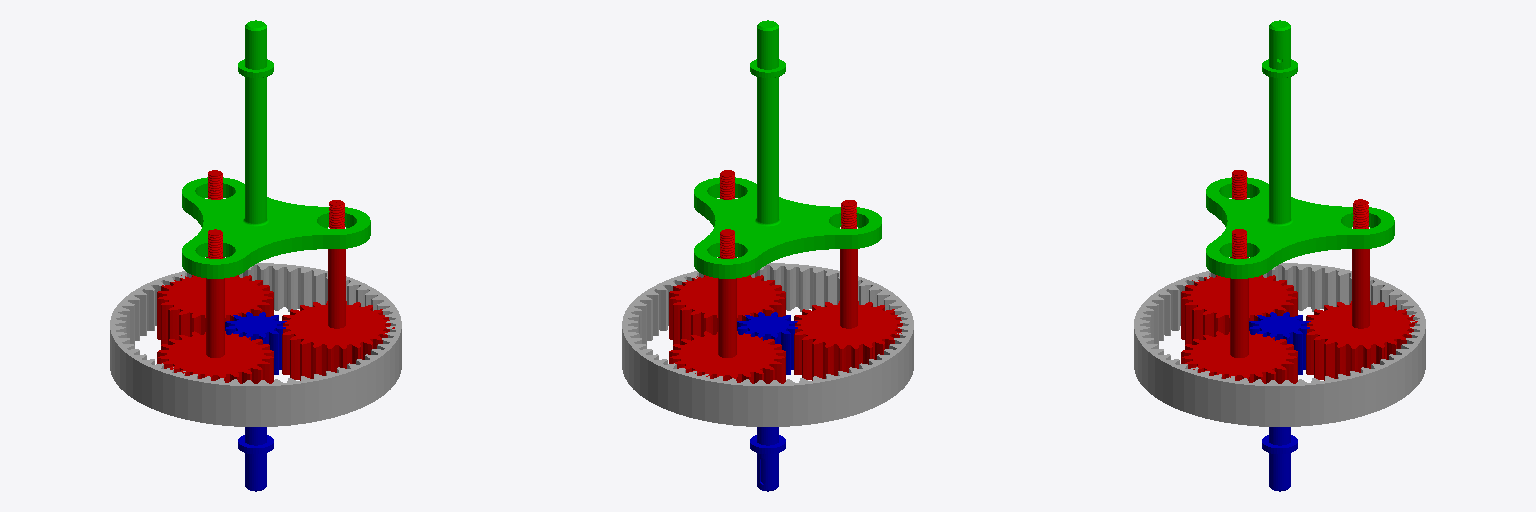
robot.urdf — planetary_gearbox:
<?xml version="1.0"?>
<robot name="planetary_gearbox">

  <!-- Материалы -->
  <material name="grey"><color rgba="0.7 0.7 0.7 1.0"/></material>
  <material name="blue"><color rgba="0.0 0.0 0.8 1.0"/></material>
  <material name="red"><color rgba="0.8 0.0 0.0 1.0"/></material>
  <material name="green"><color rgba="0.0 0.8 0.0 1.0"/></material>

  <!-- Базовое звено (Мир) -->
  <link name="base_link"/>

  <!-- КОРОНА (ring_gear.STL) -->
  <joint name="ring_joint" type="fixed">
    <parent link="base_link"/>
    <child link="ring_gear"/>
    <origin xyz="0 0 0" rpy="0 0 0"/>
  </joint>

  <link name="ring_gear">
    <visual>
      <!-- Совмещаем ось короны с началом координат -->
      <origin xyz="-0.032847 -0.032825 0" rpy="0 0 0"/>
      <geometry><mesh filename="package://gearbox_sim/meshes/ring_gear.STL" scale="0.001 0.001 0.001"/></geometry>
      <material name="grey"/>
    </visual>
  </link>

  <!-- СОЛНЦЕ (satellite.STL) -->
  <joint name="sun_joint" type="revolute">
    <parent link="base_link"/>
    <child link="sun_gear"/>
    <origin xyz="0 0 0" rpy="0 0 0"/>
    <axis xyz="0 0 1"/> <!-- Ось вращения Z (синяя) -->
    <limit effort="10.0" velocity="10.0" lower="-6.28" upper="6.28"/>
  </joint>

  <link name="sun_gear">
    <visual>
      <!-- Возвращаем солнце в исходную ориентацию, сохраняя плоскость зацепления -->
      <origin xyz="-0.006872 -0.006872 -0.030400" rpy="0 0 0"/>
      <geometry><mesh filename="package://gearbox_sim/meshes/satellite.STL" scale="0.001 0.001 0.001"/></geometry>
      <material name="blue"/>
    </visual>
  </link>

  <!-- ВОДИЛО (carrier.STL) -->
  <joint name="carrier_joint" type="revolute">
    <parent link="base_link"/>
    <child link="carrier"/>
    <origin xyz="0 0 0" rpy="0 0 0"/>
    <axis xyz="0 0 1"/> <!-- Ось вращения Z (синяя) -->
    <limit effort="10.0" velocity="10.0" lower="-6.28" upper="6.28"/>
  </joint>

  <link name="carrier">
    <visual>
      <!-- Поворот водила и стык к резьбе сателлита -->
      <origin xyz="-0.023319 0.025755 0.084267" rpy="3.14159 0 0"/>
      <geometry><mesh filename="package://gearbox_sim/meshes/carrier.STL" scale="0.001 0.001 0.001"/></geometry>
      <material name="green"/>
    </visual>
  </link>

  <!-- САТЕЛЛИТ (planet_gear.STL) -->
  <joint name="planet_1_joint" type="revolute">
    <parent link="carrier"/>
    <child link="planet_1"/>
    <!-- После переворота водила отверстия зеркалим по Y -->
    <origin xyz="0 0.018000 0" rpy="0 0 0"/>
    <axis xyz="0 0 1"/> <!-- Ось вращения Z (синяя) -->
    <limit effort="1.0" velocity="10.0" lower="-6.28" upper="6.28"/>
  </joint>

  <link name="planet_1">
    <visual>
      <!-- У планеты зубья уже начинаются от z=0, поэтому компенсируем только ось вращения -->
      <origin xyz="-0.013051 -0.013051 0" rpy="0 0 0"/>
      <geometry><mesh filename="package://gearbox_sim/meshes/planet_gear.STL" scale="0.001 0.001 0.001"/></geometry>
      <material name="red"/>
    </visual>
  </link>

  <joint name="planet_2_joint" type="revolute">
    <parent link="carrier"/>
    <child link="planet_2"/>
    <origin xyz="0.015589 -0.009000 0" rpy="0 0 0"/>
    <axis xyz="0 0 1"/>
    <limit effort="1.0" velocity="10.0" lower="-6.28" upper="6.28"/>
  </joint>

  <link name="planet_2">
    <visual>
      <origin xyz="-0.013051 -0.013051 0" rpy="0 0 0"/>
      <geometry><mesh filename="package://gearbox_sim/meshes/planet_gear.STL" scale="0.001 0.001 0.001"/></geometry>
      <material name="red"/>
    </visual>
  </link>

  <joint name="planet_3_joint" type="revolute">
    <parent link="carrier"/>
    <child link="planet_3"/>
    <origin xyz="-0.015588 -0.009000 0" rpy="0 0 0"/>
    <axis xyz="0 0 1"/>
    <limit effort="1.0" velocity="10.0" lower="-6.28" upper="6.28"/>
  </joint>

  <link name="planet_3">
    <visual>
      <origin xyz="-0.013051 -0.013051 0" rpy="0 0 0"/>
      <geometry><mesh filename="package://gearbox_sim/meshes/planet_gear.STL" scale="0.001 0.001 0.001"/></geometry>
      <material name="red"/>
    </visual>
  </link>

</robot>

--- Facts derived from the render (not from the file) ---
The picture shows the robot from 3 angles, left to right: view 1: azimuth 30°, elevation 25°; view 2: azimuth 150°, elevation 25°; view 3: azimuth 270°, elevation 25°; orthographic projection.
Robot: planetary_gearbox — 7 links, 6 joints (5 revolute, 1 fixed); root link base_link; default pose: every joint at zero.
Links seen in each view (by area): view 1: ring_gear, carrier, planet_2, planet_3, planet_1, sun_gear; view 2: ring_gear, carrier, planet_3, planet_1, planet_2, sun_gear; view 3: ring_gear, carrier, planet_1, planet_2, planet_3, sun_gear.
Boxes of the visible links, x1,y1,x2,y2 form: ring_gear: (110, 263, 401, 426); carrier: (182, 20, 370, 278); planet_2: (282, 200, 394, 380); planet_3: (157, 229, 273, 383); planet_1: (157, 170, 273, 344); sun_gear: (225, 312, 286, 491); ring_gear: (622, 263, 913, 426); carrier: (694, 20, 881, 278); planet_3: (794, 200, 902, 380); planet_1: (669, 229, 785, 383); planet_2: (669, 170, 785, 344); sun_gear: (737, 312, 797, 491); ring_gear: (1134, 263, 1425, 426); carrier: (1206, 20, 1394, 278); planet_1: (1306, 199, 1417, 380); planet_2: (1181, 229, 1297, 383); planet_3: (1181, 170, 1297, 344); sun_gear: (1249, 312, 1310, 491).
Size in the robot's own frame: 0.065 by 0.065 by 0.1137 metres.
6 mesh visuals loaded from 4 distinct referenced files (4 binary STL).
